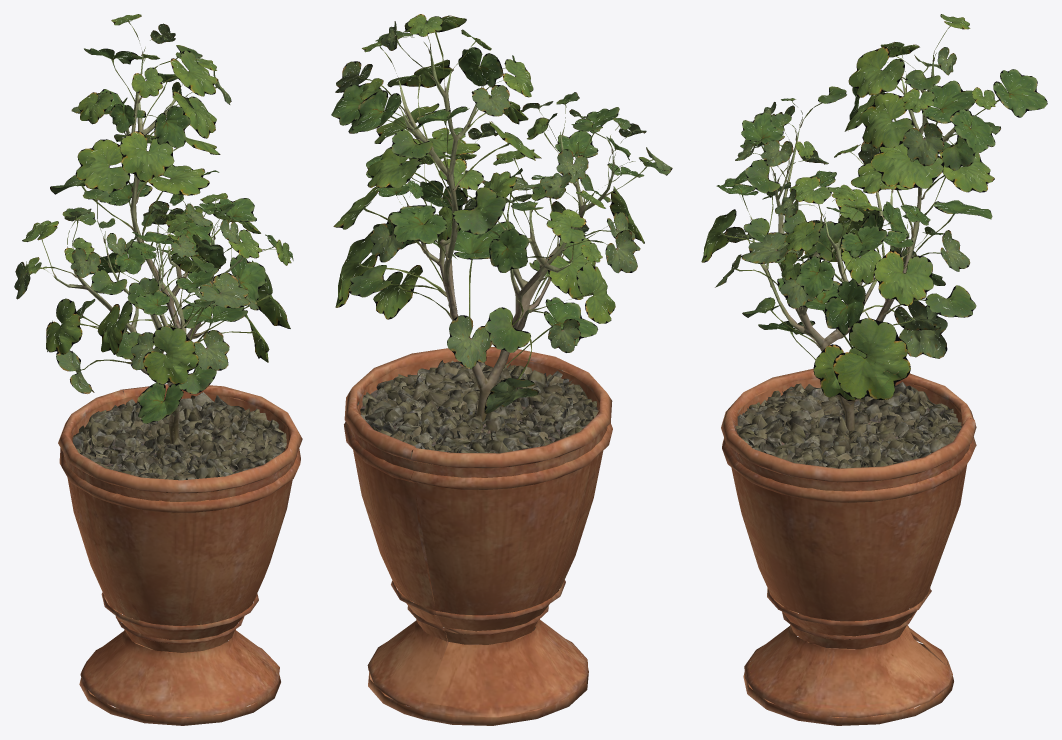
File: potted_plant_01.glb
3 views of the same model, side by side, from view 1: azimuth 30°, elevation 25°; view 2: azimuth 150°, elevation 25°; view 3: azimuth 270°, elevation 25° (orthographic). The views are drawn at different scales.
Parts seen in each view (by area): view 1: potted_plant_01_pot, potted_plant_01_leaves, potted_plant_01_pebbles, potted_plant_01_stem; view 2: potted_plant_01_pot, potted_plant_01_leaves, potted_plant_01_pebbles, potted_plant_01_stem; view 3: potted_plant_01_pot, potted_plant_01_leaves, potted_plant_01_pebbles, potted_plant_01_stem.
Part boxes in pixels (x1,y1,x2,y2): potted_plant_01_pot: (58,384,302,725); potted_plant_01_leaves: (14,14,293,423); potted_plant_01_pebbles: (72,392,286,493); potted_plant_01_stem: (54,54,244,443); potted_plant_01_pot: (344,347,612,725); potted_plant_01_leaves: (331,14,672,413); potted_plant_01_pebbles: (357,360,598,465); potted_plant_01_stem: (399,47,613,421); potted_plant_01_pot: (721,368,976,725); potted_plant_01_leaves: (701,14,1047,400); potted_plant_01_pebbles: (734,382,961,482); potted_plant_01_stem: (752,55,964,430).
Bounding box in the file's own units: 0.5871 × 1.34 × 0.6328.
Materials: 2 (2 with a texture image).
